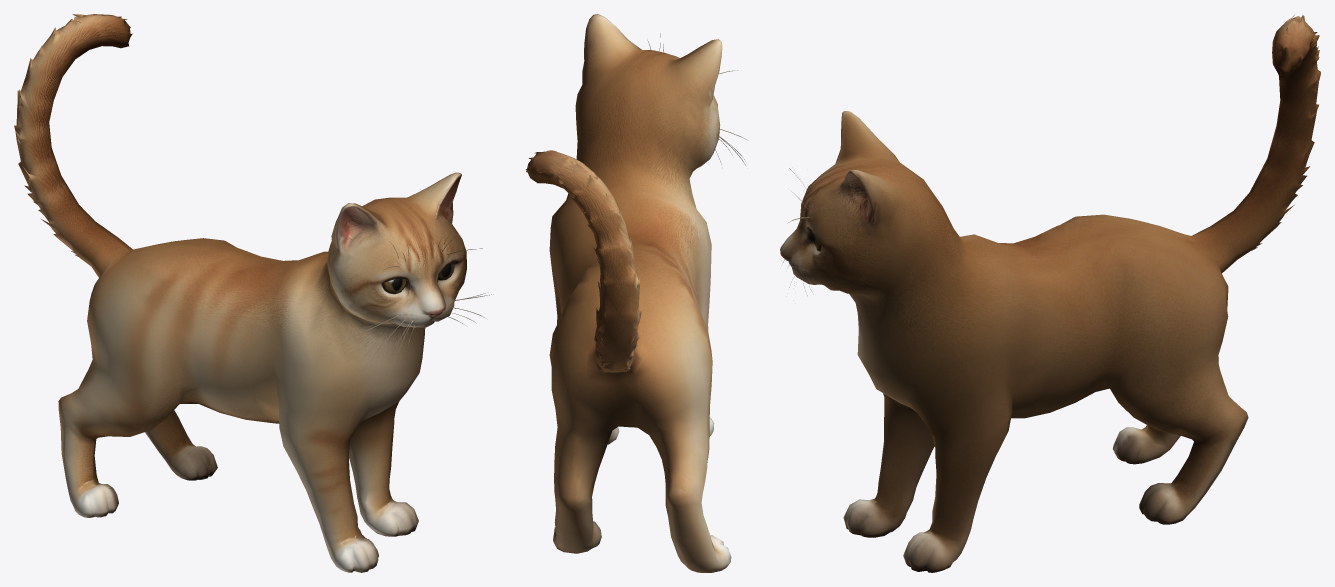
The model's file is small-model-cat-brown.glb.
The picture shows the model from 3 angles, left to right: view 1: azimuth 30°, elevation 25°; view 2: azimuth 150°, elevation 25°; view 3: azimuth 270°, elevation 25°; orthographic projection. The views are drawn at different scales.
Visible parts, largest first — view 1: tripo_node_f880602d-3378-40a5-8e3e-1a7b4e26fa81; view 2: tripo_node_f880602d-3378-40a5-8e3e-1a7b4e26fa81; view 3: tripo_node_f880602d-3378-40a5-8e3e-1a7b4e26fa81.
Part boxes in pixels (bbox=[...]): tripo_node_f880602d-3378-40a5-8e3e-1a7b4e26fa81: bbox=[14, 14, 493, 572]; tripo_node_f880602d-3378-40a5-8e3e-1a7b4e26fa81: bbox=[525, 14, 746, 572]; tripo_node_f880602d-3378-40a5-8e3e-1a7b4e26fa81: bbox=[780, 15, 1320, 572].
Size of the model in its own units: 0.6353 by 0.96 by 0.9995.
Materials: 1 (1 with a texture image).
